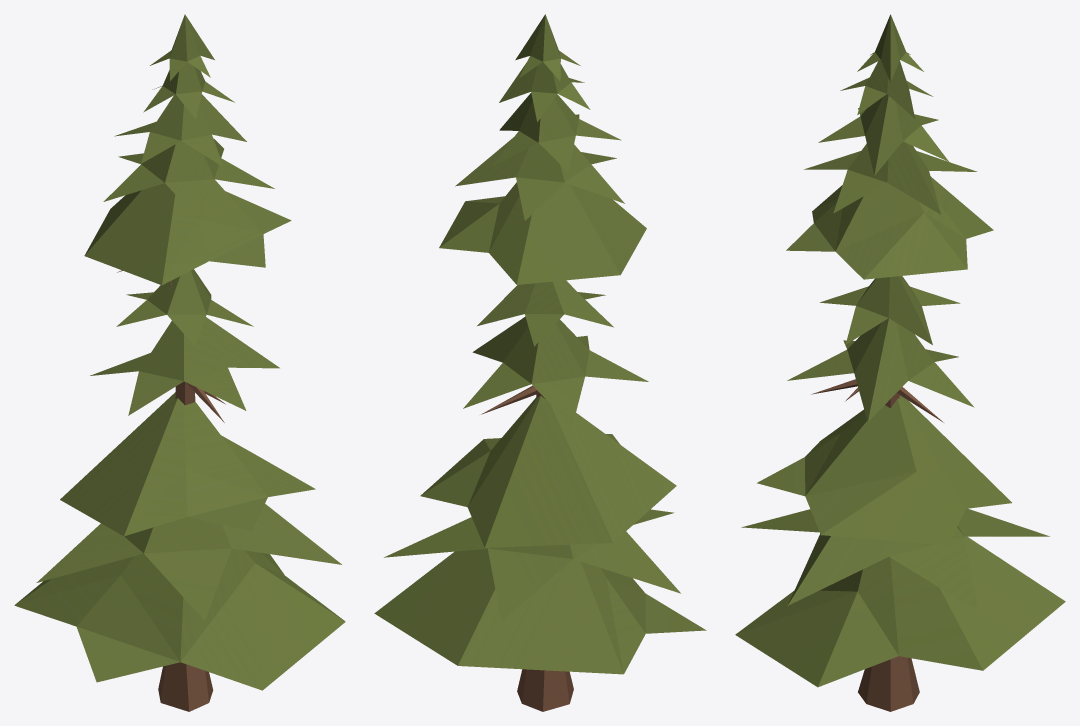
The model's file is Tree_3_LOD1.fbx.
3 views of the same model, side by side, from view 1: azimuth 30°, elevation 25°; view 2: azimuth 150°, elevation 25°; view 3: azimuth 270°, elevation 25° (orthographic).
Visible parts, largest first — view 1: polySurface10527; view 2: polySurface10527; view 3: polySurface10527.
Boxes of the visible parts, box(x1,y1,x2,y2) form: polySurface10527: box(14, 14, 345, 711); polySurface10527: box(374, 14, 706, 711); polySurface10527: box(735, 14, 1065, 711).
Size of the model in its own units: 246 by 602 by 264.
